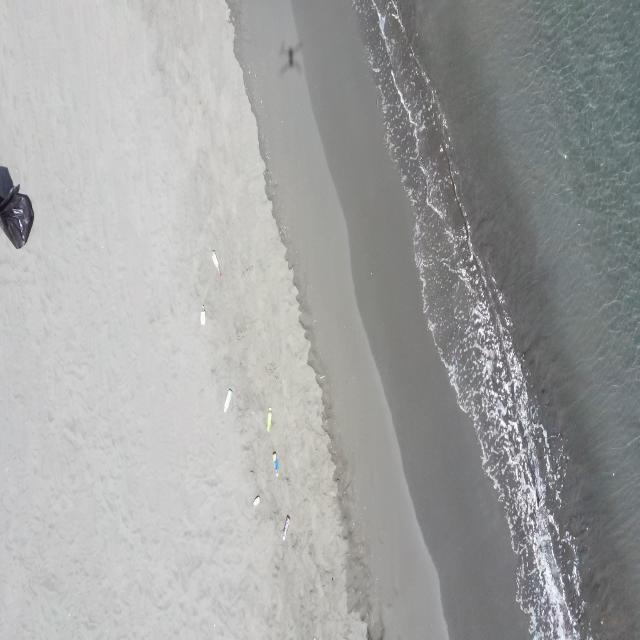Garbage: (0, 184, 32, 247), (212, 249, 220, 276), (223, 387, 230, 412), (281, 515, 288, 540), (272, 451, 279, 475), (267, 407, 271, 431), (200, 303, 204, 324), (253, 495, 260, 506)
